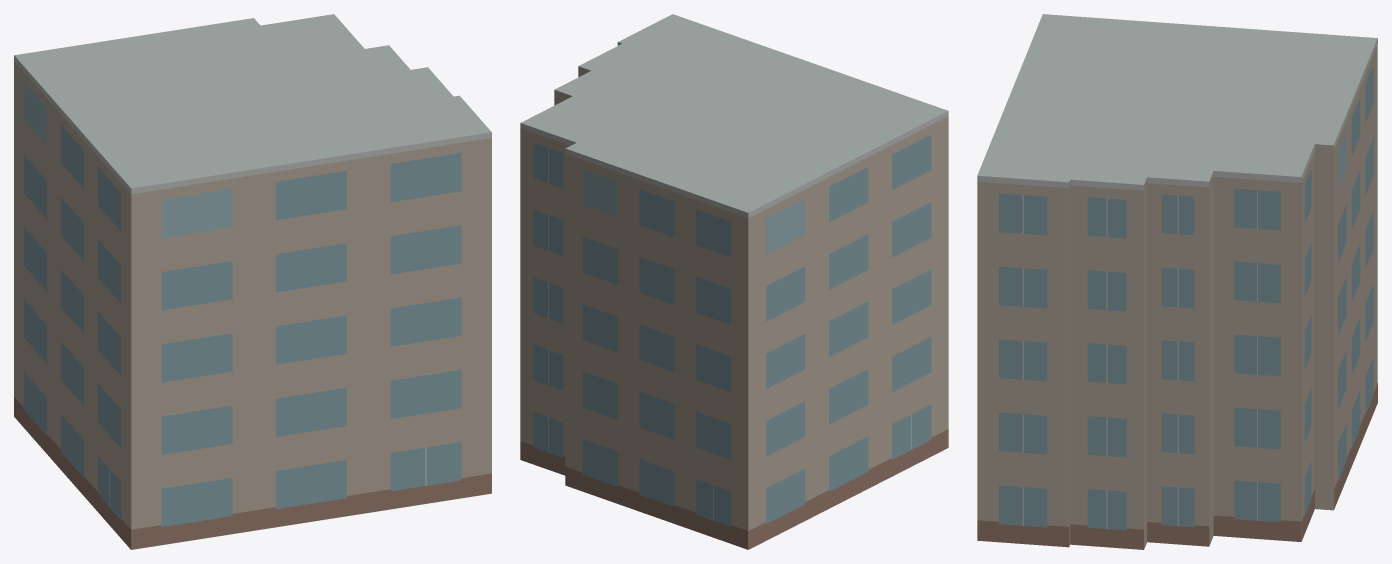
The model's file is survey-upis-32679685.glb.
3 renders of one model, left to right at view 1: azimuth 30°, elevation 25°; view 2: azimuth 150°, elevation 25°; view 3: azimuth 270°, elevation 25°, orthographic. The views are drawn at different scales.
Visible parts, largest first — view 1: survey-upis-32679685.tmp; view 2: survey-upis-32679685.tmp; view 3: survey-upis-32679685.tmp.
Part boxes in pixels (x1=…): survey-upis-32679685.tmp: x1=14, y1=14, x2=491, y2=549; survey-upis-32679685.tmp: x1=520, y1=14, x2=948, y2=549; survey-upis-32679685.tmp: x1=977, y1=14, x2=1377, y2=549.
Bounding box in the file's own units: 15.33 × 15.25 × 15.18.
